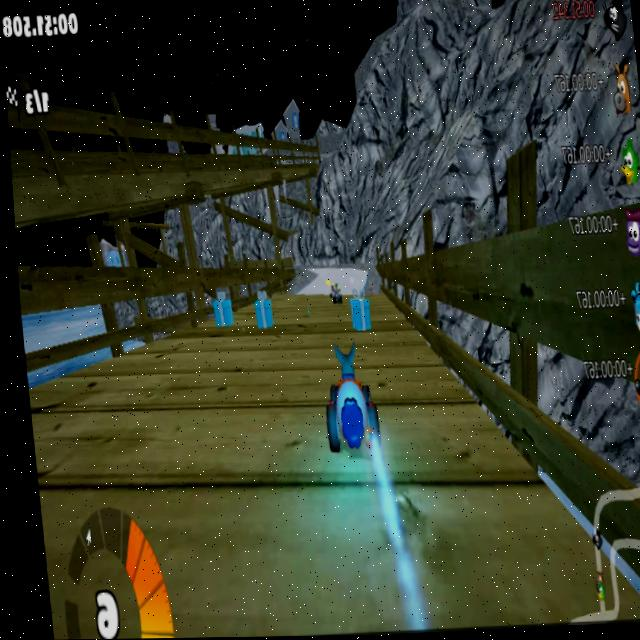bonus: (206, 289, 230, 333), (341, 293, 368, 332), (247, 294, 271, 332)
enemy_kart: (322, 283, 340, 306)
player_kart: (312, 346, 383, 465)
